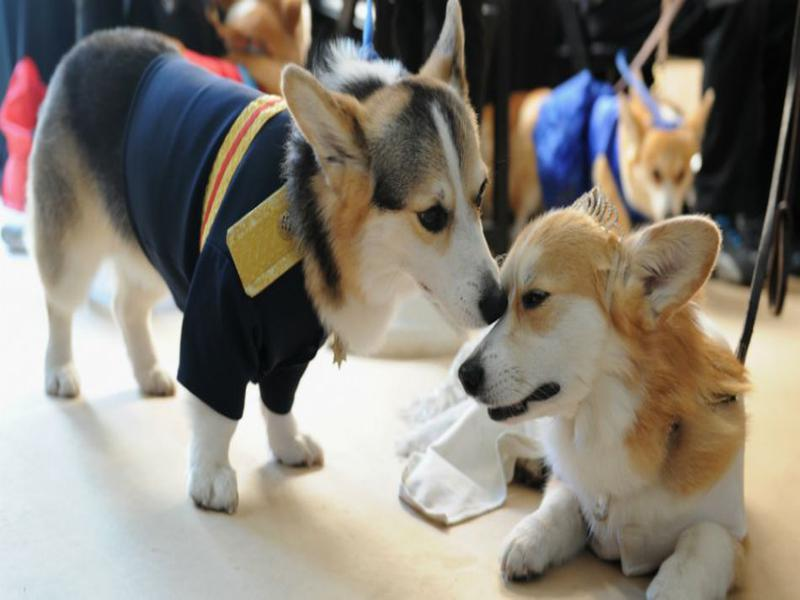corgi: (280, 3, 512, 332)
